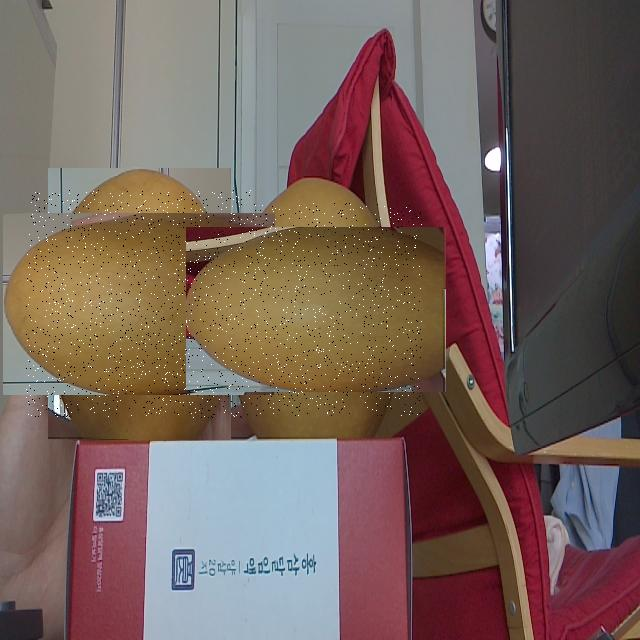pear: (26, 190, 253, 418), (210, 203, 422, 416)
